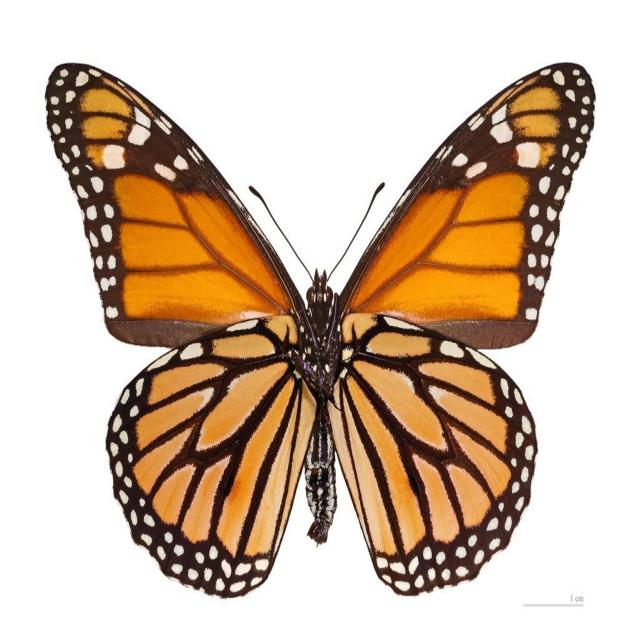butterfly: (64, 88, 563, 594)
